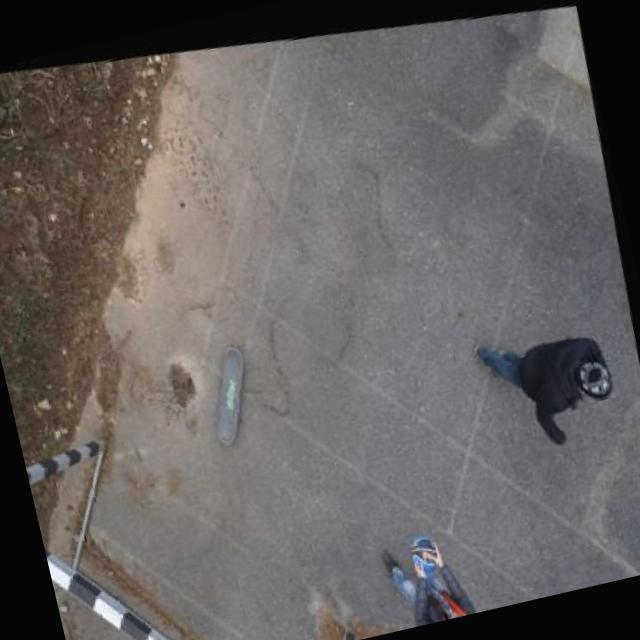Person: (463, 292, 640, 458), (369, 508, 500, 630)
